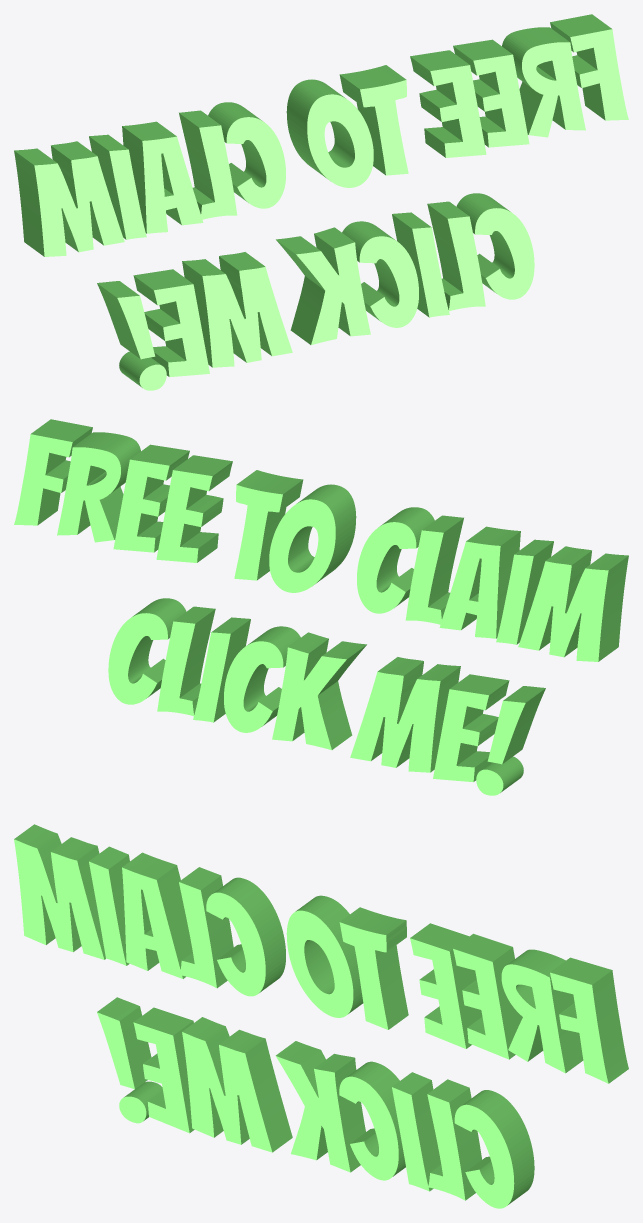
File: text-claim.glb
3 views of the same model, one above another, from view 1: azimuth 30°, elevation 25°; view 2: azimuth 150°, elevation 25°; view 3: azimuth 330°, elevation 25° (orthographic).
Parts seen in each view (by area): view 1: Face, Side; view 2: Face, Side; view 3: Face, Side.
Part boxes in pixels (x1,y1,x2,y2): Face: [34, 29, 628, 390]; Side: [14, 14, 611, 387]; Face: [14, 434, 608, 795]; Side: [31, 419, 628, 792]; Face: [14, 839, 608, 1208]; Side: [14, 824, 628, 1205].
Size of the model in its own units: 4.72 by 1.93 by 0.28.
